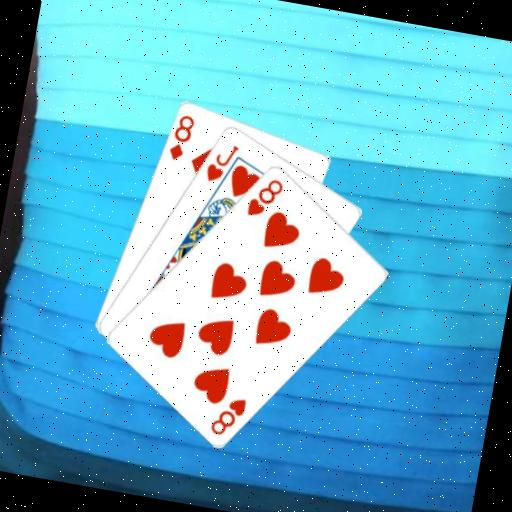8D: (164, 109, 197, 164)
8H: (242, 171, 286, 222), (205, 389, 249, 440)
JH: (201, 137, 241, 187)
